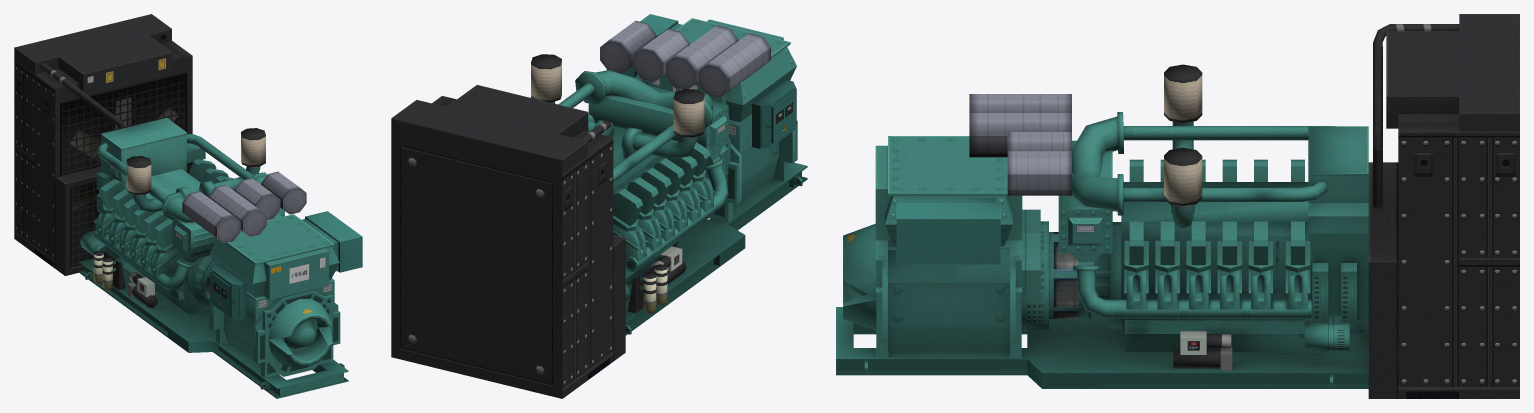
Rendered from HVGEN.glb.
3 renders of one model, left to right at view 1: azimuth 30°, elevation 25°; view 2: azimuth 150°, elevation 25°; view 3: azimuth 270°, elevation 25°, orthographic. The views are drawn at different scales.
Parts seen in each view (by area): view 1: ???????; view 2: ???????; view 3: ???????.
Boxes of the visible parts, x1=… form: ???????: x1=14, y1=14, x2=362, y2=398; ???????: x1=391, y1=14, x2=807, y2=398; ???????: x1=836, y1=14, x2=1519, y2=398.
Bounding box in the file's own units: 330 × 435 × 946.
Materials: 2 (2 with a texture image).
